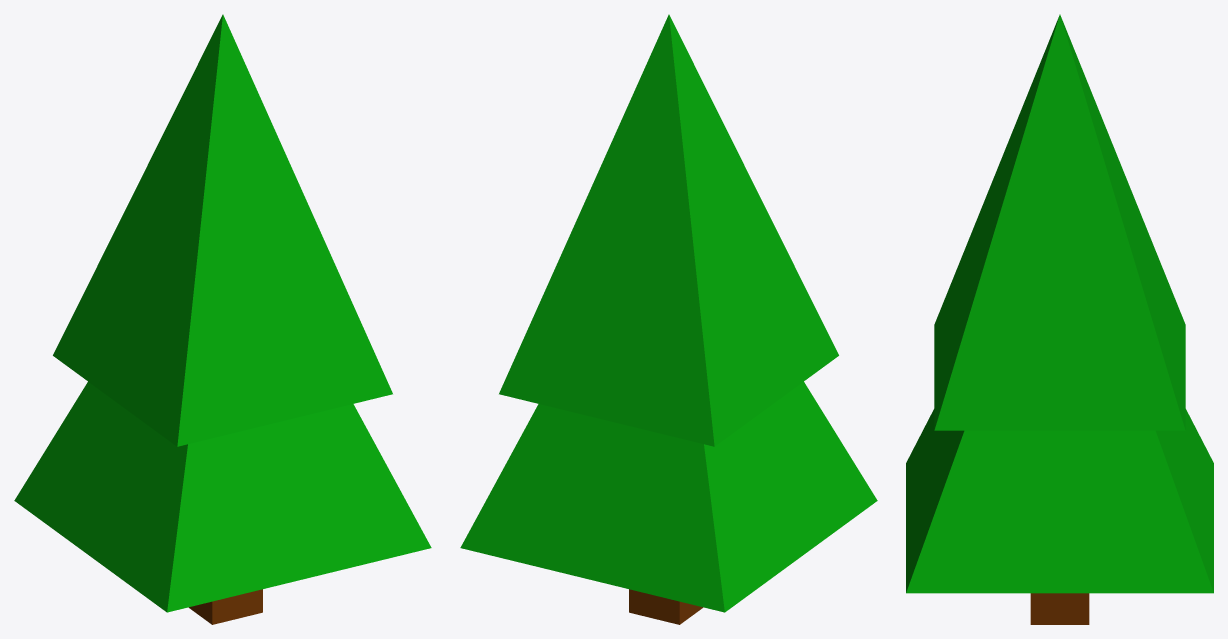
Rendered from Tree_3.fbx.
3 renders of one model, left to right at view 1: azimuth 30°, elevation 25°; view 2: azimuth 150°, elevation 25°; view 3: azimuth 270°, elevation 25°, orthographic.
Visible parts, largest first — view 1: Tree_3; view 2: Tree_3; view 3: Tree_3.
Part boxes in pixels (left/top/right/bottom): Tree_3: left=14, top=14, right=431, bottom=624; Tree_3: left=460, top=14, right=877, bottom=624; Tree_3: left=906, top=14, right=1213, bottom=624.
Bounding box in the file's own units: 0.8956 × 0.8956 × 1.92.
